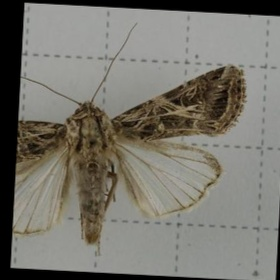Spodoptera litura: (17, 21, 246, 257)
